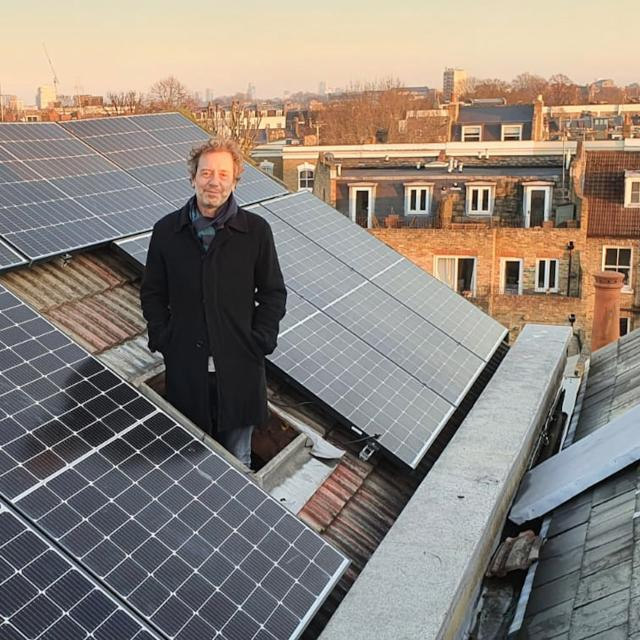clean-solar-panel: (0, 285, 349, 640), (236, 166, 506, 468), (1, 114, 208, 270)
